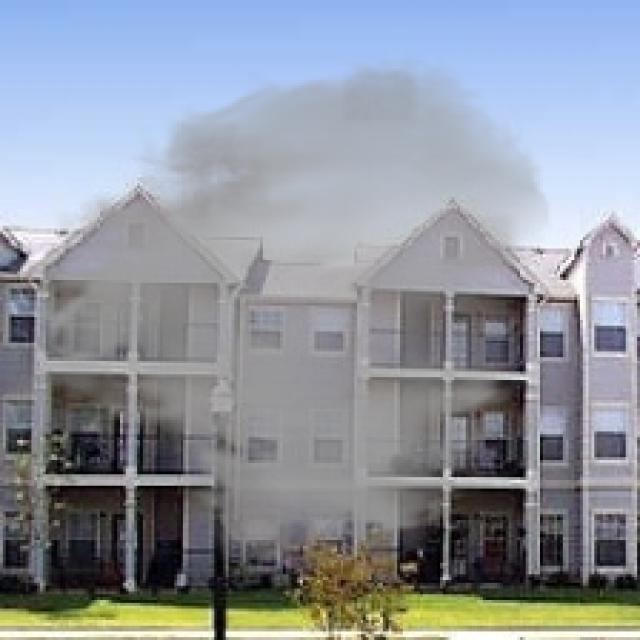smoke: (6, 54, 554, 572)
